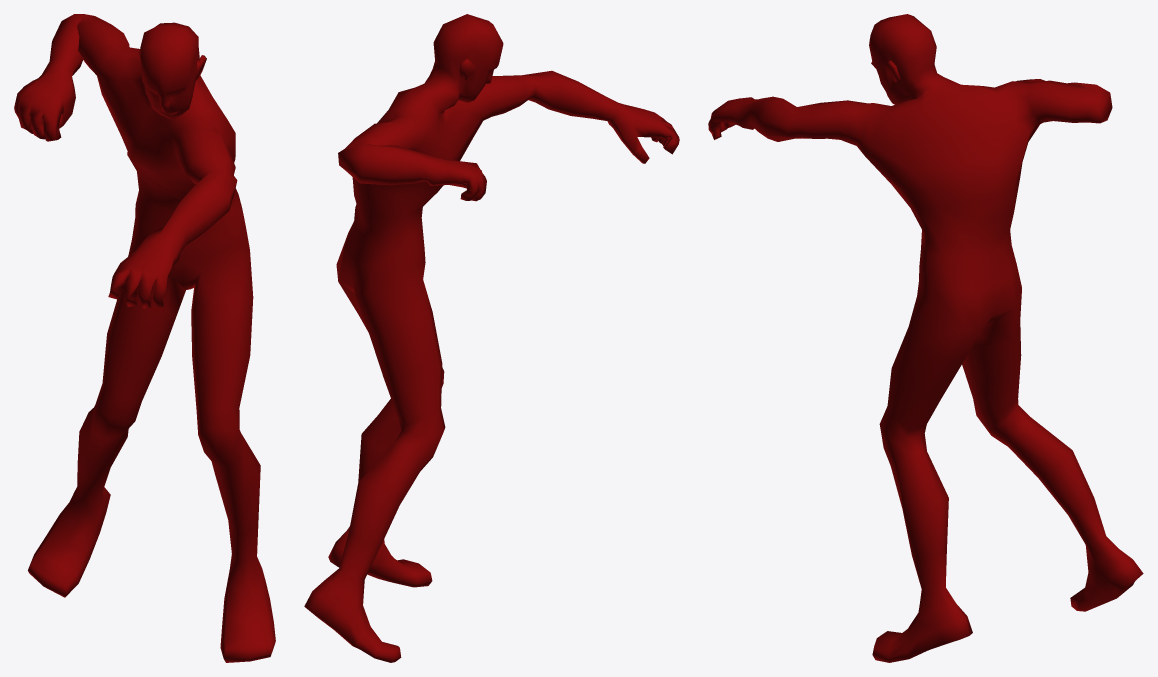
The model's file is attack_7.obj.
The picture shows the model from 3 angles, left to right: view 1: azimuth 30°, elevation 25°; view 2: azimuth 150°, elevation 25°; view 3: azimuth 270°, elevation 25°; orthographic projection. The views are drawn at different scales.
Visible parts, largest first — view 1: Low_Poly_Characte.000_Mesh.001; view 2: Low_Poly_Characte.000_Mesh.001; view 3: Low_Poly_Characte.000_Mesh.001.
Part boxes in pixels (box(x1,y1,x2,y2)): Low_Poly_Characte.000_Mesh.001: box(14, 14, 275, 662); Low_Poly_Characte.000_Mesh.001: box(304, 14, 679, 662); Low_Poly_Characte.000_Mesh.001: box(708, 14, 1143, 662).
Bounding box in the file's own units: 1.31 × 2.99 × 1.95.
